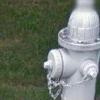Hydrant: (39, 2, 100, 98)
